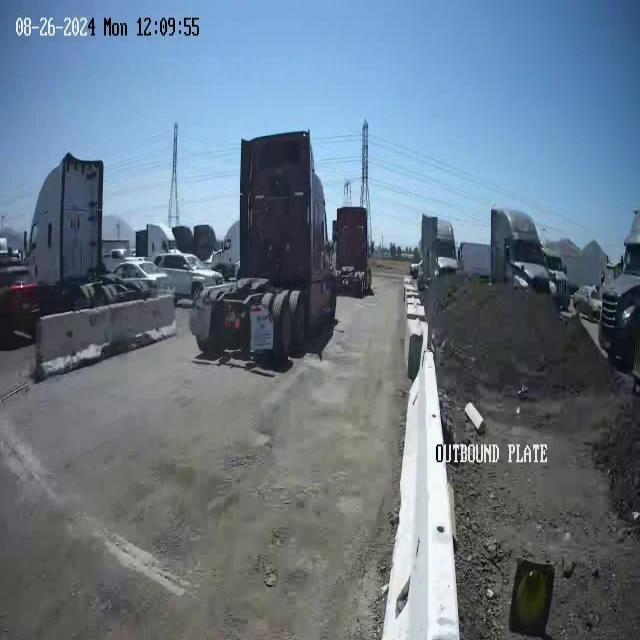BOBTAIL: (189, 127, 338, 366), (338, 206, 373, 300)
